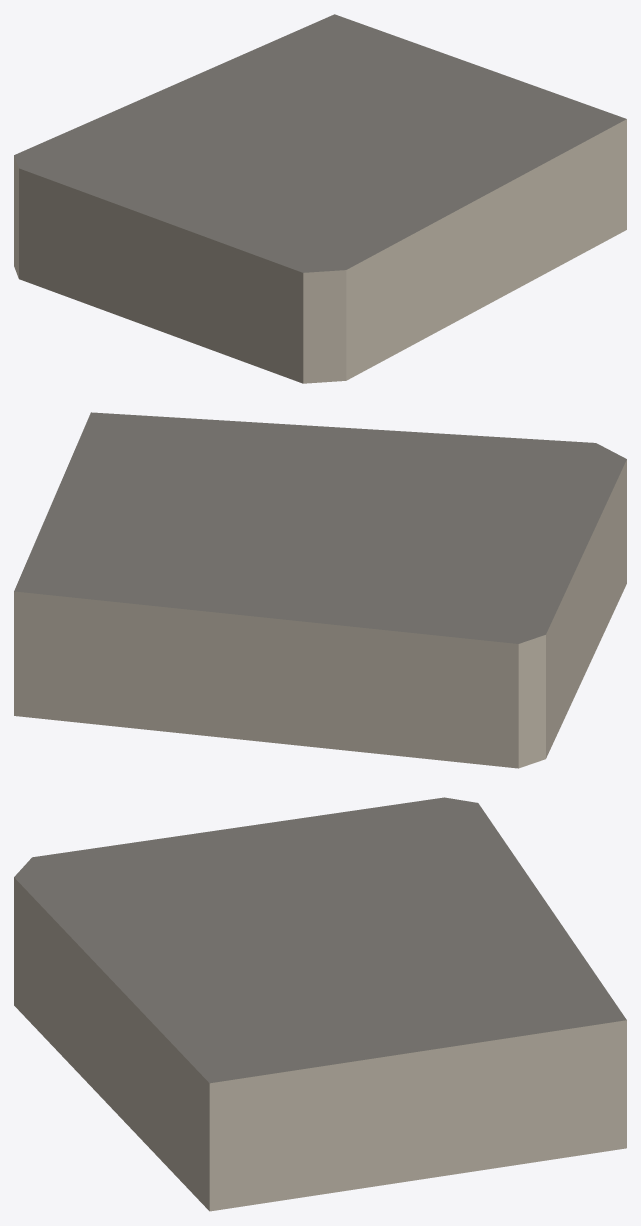
3 renders of one model, top to bottom at view 1: azimuth 30°, elevation 25°; view 2: azimuth 150°, elevation 25°; view 3: azimuth 270°, elevation 25°, orthographic. The views are drawn at different scales.
Parts seen in each view (by area): view 1: HP-w756799598; view 2: HP-w756799598; view 3: HP-w756799598.
Part boxes in pixels (box(x1,y1,x2,y2)): HP-w756799598: box(14, 14, 626, 383); HP-w756799598: box(14, 412, 626, 768); HP-w756799598: box(14, 797, 626, 1211).
Bounding box in the file's own units: 57.4 × 12 × 52.01.
